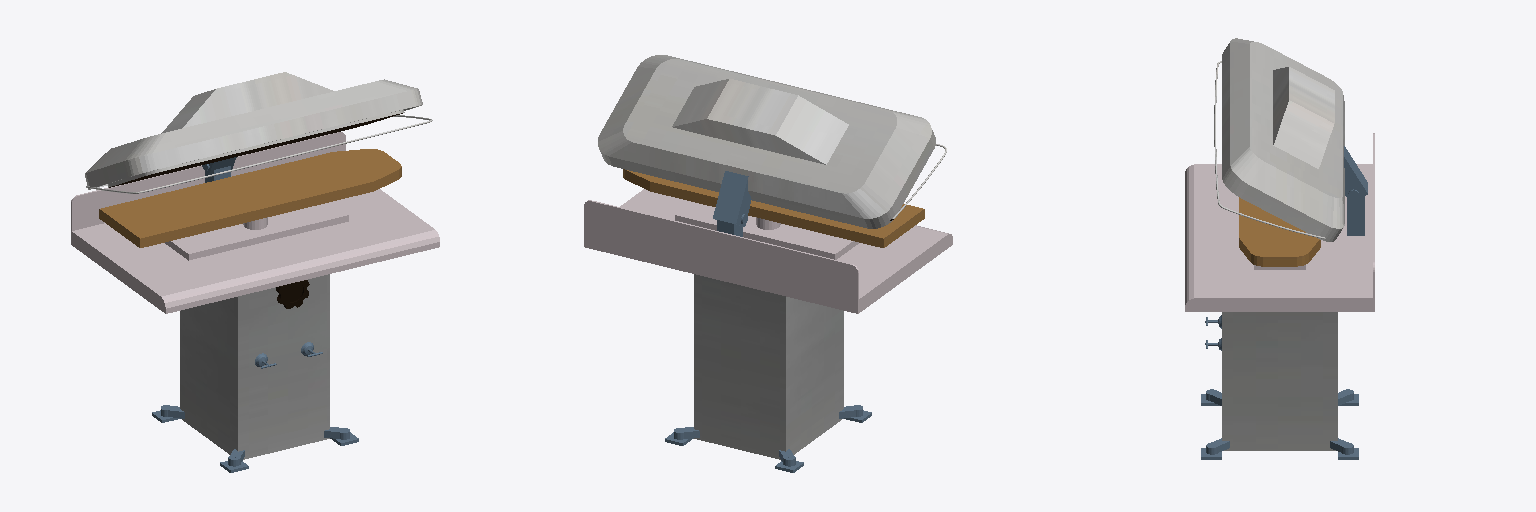
3 views of the same model, side by side, from view 1: azimuth 30°, elevation 25°; view 2: azimuth 150°, elevation 25°; view 3: azimuth 270°, elevation 25° (orthographic).
Parts seen in each view (by area): view 1: SteamPress.obj; view 2: SteamPress.obj; view 3: SteamPress.obj.
Boxes of the visible parts, x1,y1,x2,y2 form: SteamPress.obj: [71, 72, 439, 472]; SteamPress.obj: [584, 55, 952, 472]; SteamPress.obj: [1185, 38, 1374, 459].
Bounding box in the file's own units: 26.62 × 28.92 × 14.46.
1 materials, 1 textured.